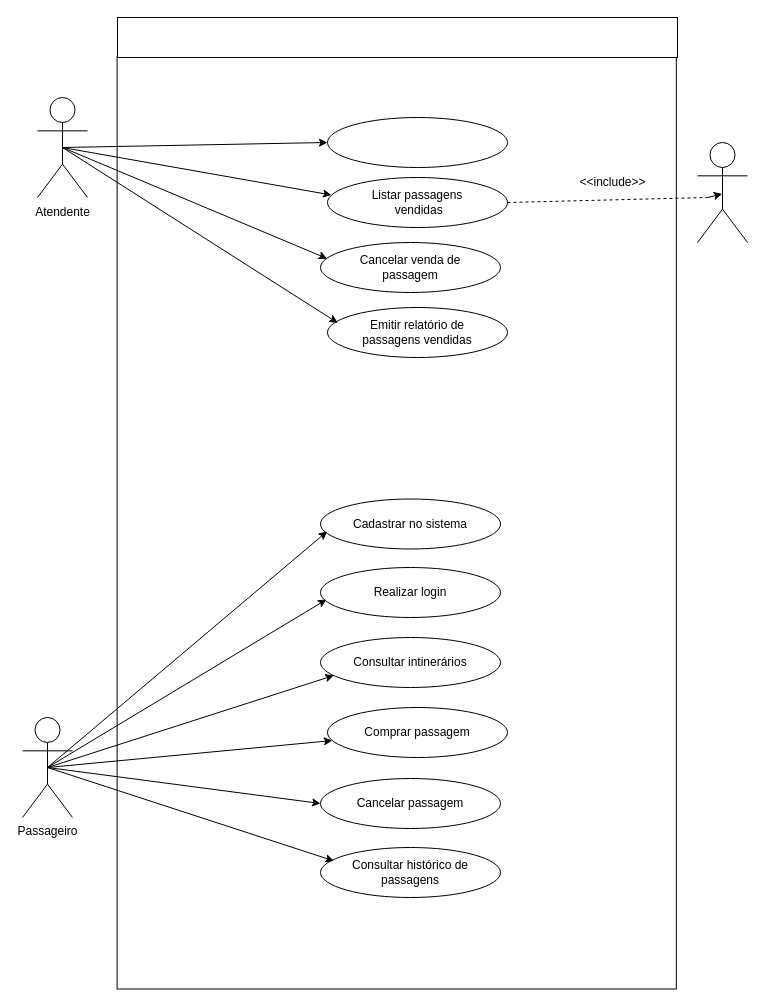
The diagram is 772 pixels wide and 1007 high, and some of its shapes have lost their labels. The centre of each missing label's shape, as x and y in pixels:
"Reservar passagem" belongs at (x=417, y=142).
"Sistema de pagamentos" belongs at (x=722, y=192).
"Sistema de vendas de passagem de ônibus" belongs at (x=397, y=37).
